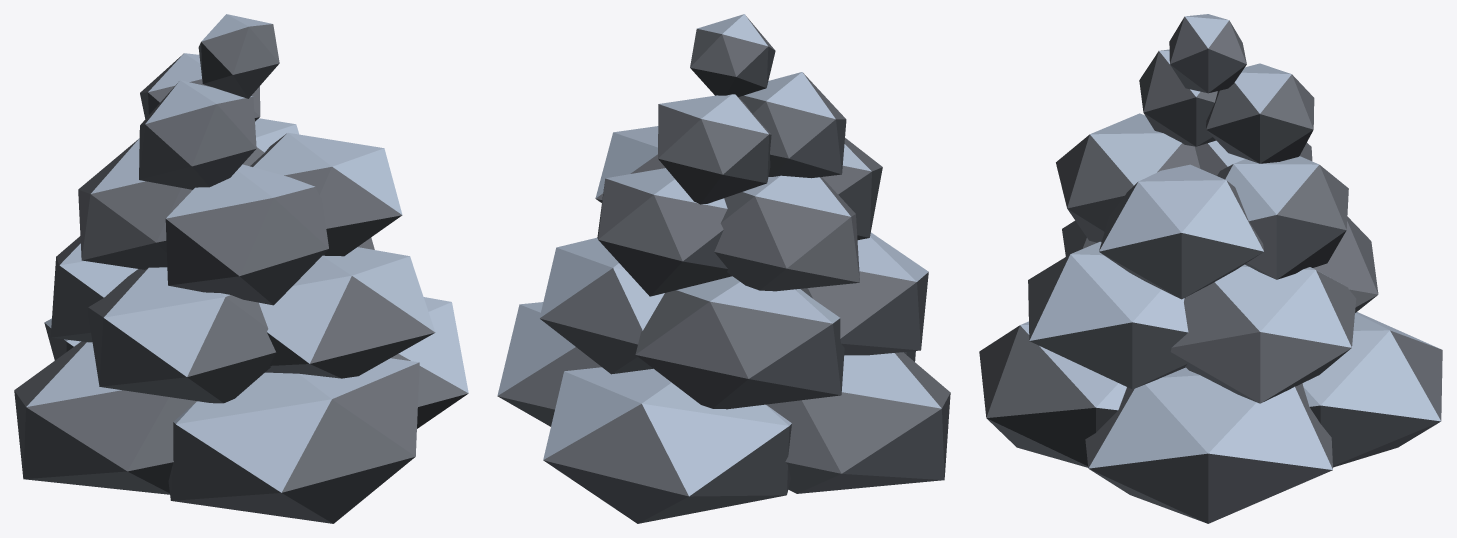
Rendered from cairn.glb.
3 renders of one model, left to right at view 1: azimuth 30°, elevation 25°; view 2: azimuth 150°, elevation 25°; view 3: azimuth 270°, elevation 25°, orthographic.
Visible parts, largest first — view 1: Rock; view 2: Rock; view 3: Rock.
Part boxes in pixels (x1,y1,x2,y2): Rock: (14, 14, 468, 523); Rock: (497, 14, 950, 523); Rock: (979, 14, 1442, 523).
Bounding box in the file's own units: 1.08 × 1.05 × 1.02.
